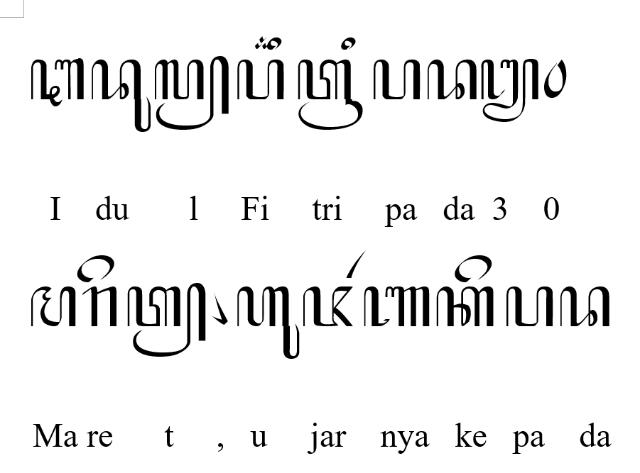-l: (154, 55, 230, 131)
-t: (127, 281, 207, 357)
0: (543, 60, 567, 98)
I: (30, 56, 84, 108)
_r1: (345, 250, 367, 278)
alt: (253, 36, 270, 50)
d: (426, 59, 476, 101), (560, 286, 610, 328)
du: (90, 58, 152, 132)
e: (453, 254, 492, 284), (76, 255, 114, 283)
hu: (236, 287, 300, 359)
i: (266, 36, 282, 50), (340, 37, 356, 51)
j: (302, 284, 354, 328)
k: (436, 286, 494, 328)
kom: (210, 292, 228, 328)
m: (31, 286, 77, 328)
ngya: (480, 57, 540, 123)
ny1: (364, 286, 431, 328)
p: (372, 59, 422, 100), (237, 59, 285, 101), (504, 286, 554, 326)
r: (82, 286, 118, 328)
tr: (296, 59, 364, 131)
